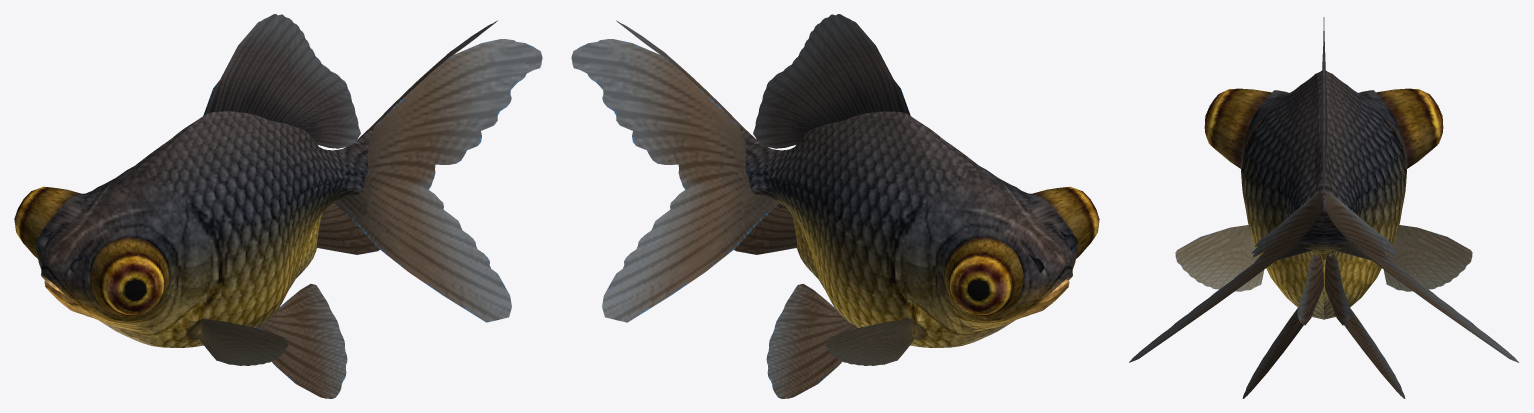
File: Fish.fbx
The picture shows the model from 3 angles, left to right: view 1: azimuth 30°, elevation 25°; view 2: azimuth 150°, elevation 25°; view 3: azimuth 270°, elevation 25°; orthographic projection. The views are drawn at different scales.
Visible parts, largest first — view 1: polySurface1; view 2: polySurface1; view 3: polySurface1.
Boxes of the visible parts, x1,y1,x2,y2 form: polySurface1: (14,14,542,398); polySurface1: (571,14,1099,398); polySurface1: (1129,17,1518,398).
Bounding box in the file's own units: 17.74 × 12.93 × 12.34.
